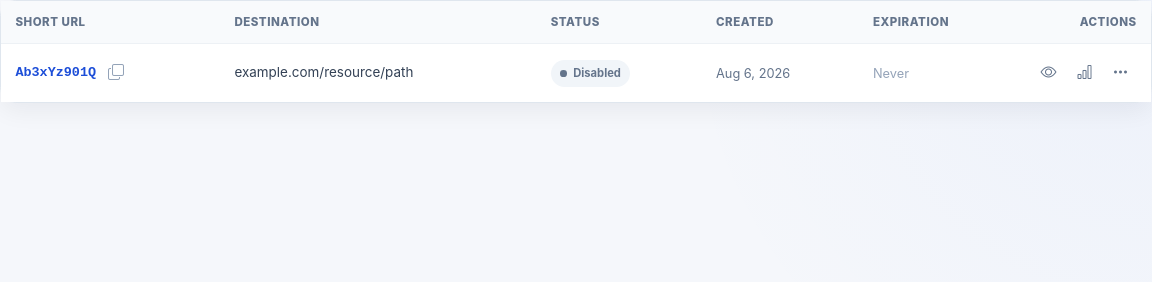
UrlTableComponent › offers enable for a disabled non-expired URL
Click the button named "More actions for Ab3xYz901Q" at [1121, 73], box x1=1105 y1=57 x2=1137 y2=89
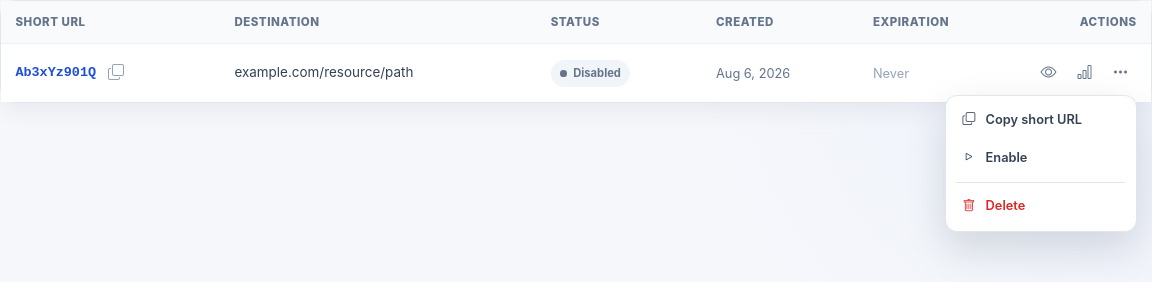
Expected: the button "Enable" is shown, x1=951 y1=139 x2=1130 y2=177
